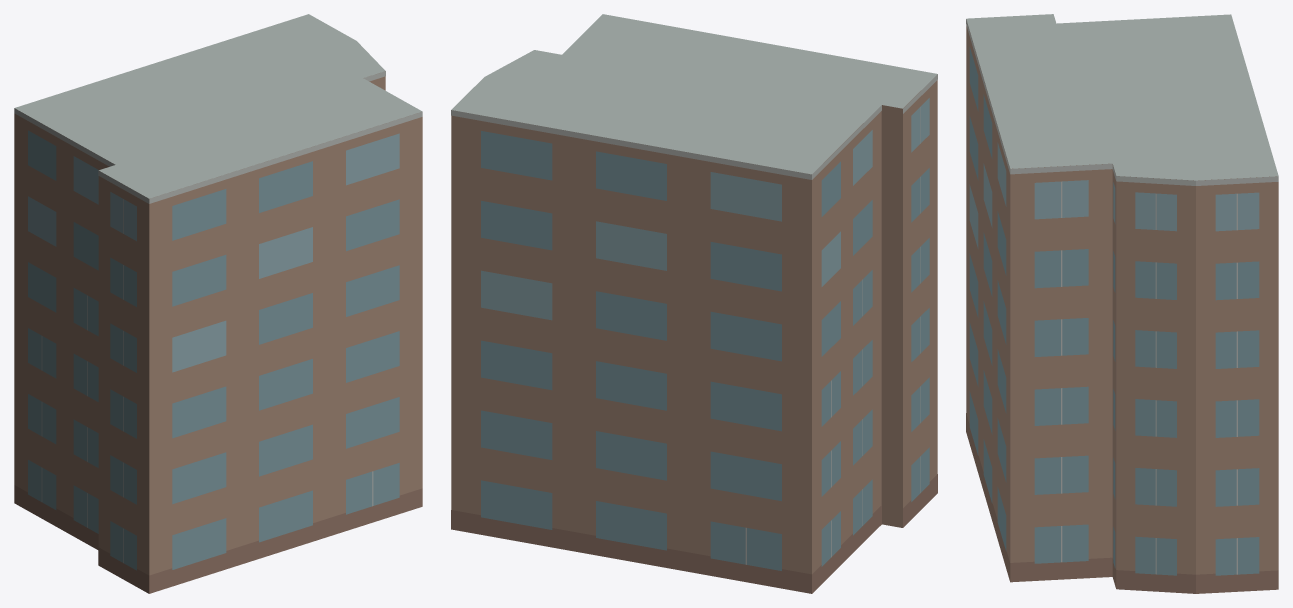
The model's file is survey-upis-32659350.glb.
3 views of the same model, side by side, from view 1: azimuth 30°, elevation 25°; view 2: azimuth 150°, elevation 25°; view 3: azimuth 270°, elevation 25° (orthographic). The views are drawn at different scales.
Parts seen in each view (by area): view 1: survey-upis-32659350.tmp; view 2: survey-upis-32659350.tmp; view 3: survey-upis-32659350.tmp.
Part boxes in pixels (<box>): survey-upis-32659350.tmp: <box>14,14,422,593</box>; survey-upis-32659350.tmp: <box>451,14,937,593</box>; survey-upis-32659350.tmp: <box>966,14,1278,593</box>.
Bounding box in the file's own units: 15.83 × 18.3 × 12.55.
